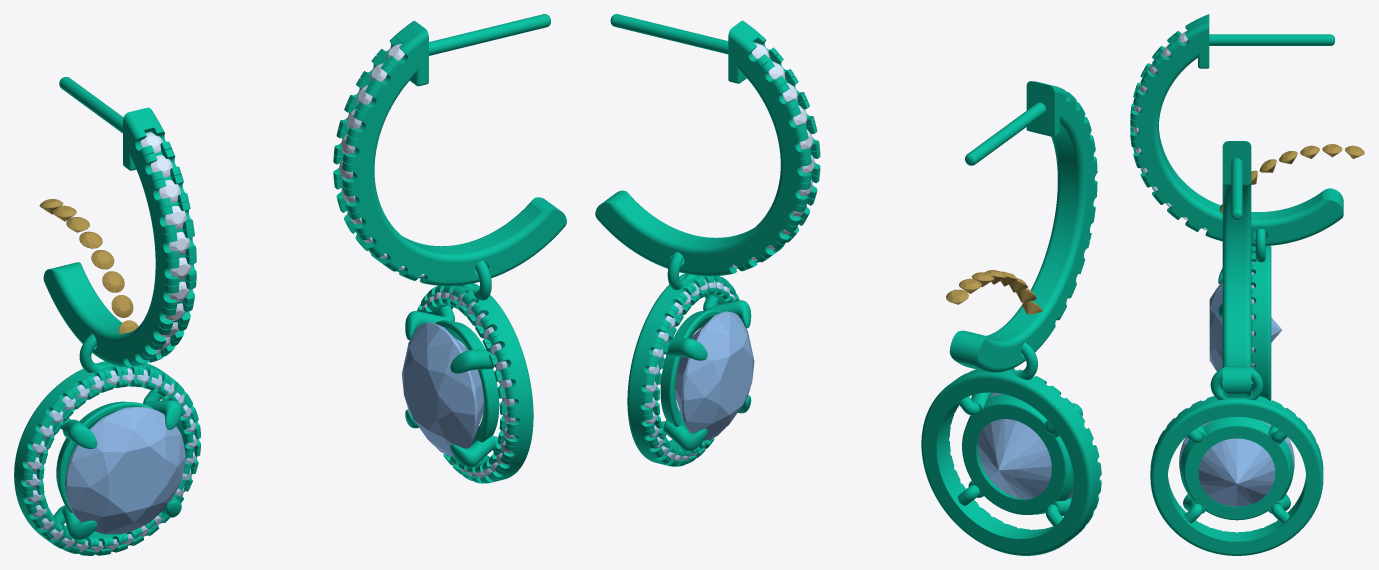
3 renders of one model, left to right at view 1: azimuth 30°, elevation 25°; view 2: azimuth 150°, elevation 25°; view 3: azimuth 270°, elevation 25°, orthographic. The views are drawn at different scales.
Visible parts, largest first — view 1: VEAR147 001.3dm, Diamond_Round (×2), Bezel (×2), Head Prong (×3); view 2: VEAR147 001.3dm, Diamond_Round (×2), Bezel (×2), Head Prong (×2); view 3: VEAR147 001.3dm, Diamond_Round (×2), Bezel.
Part boxes in pixels (x1,y1,x2,y2): VEAR147 001.3dm: (14,14,566,555); Diamond_Round (×2): (65,322,483,534); Bezel (×2): (56,320,499,512); Head Prong (×3): (63,349,495,467); VEAR147 001.3dm: (595,14,1101,555); Diamond_Round (×2): (675,311,1073,499); Bezel (×2): (660,309,1073,514); Head Prong (×2): (664,337,707,451); VEAR147 001.3dm: (1130,14,1343,555); Diamond_Round (×2): (1179,281,1294,506); Bezel: (1180,417,1293,520).
Bounding box in the file's own units: 2.92 × 2.45 × 1.34.
